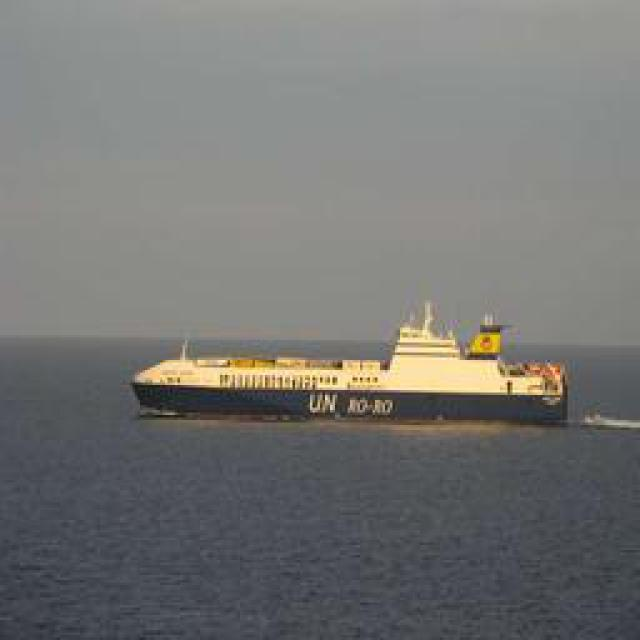Ship: (138, 341, 566, 424)
